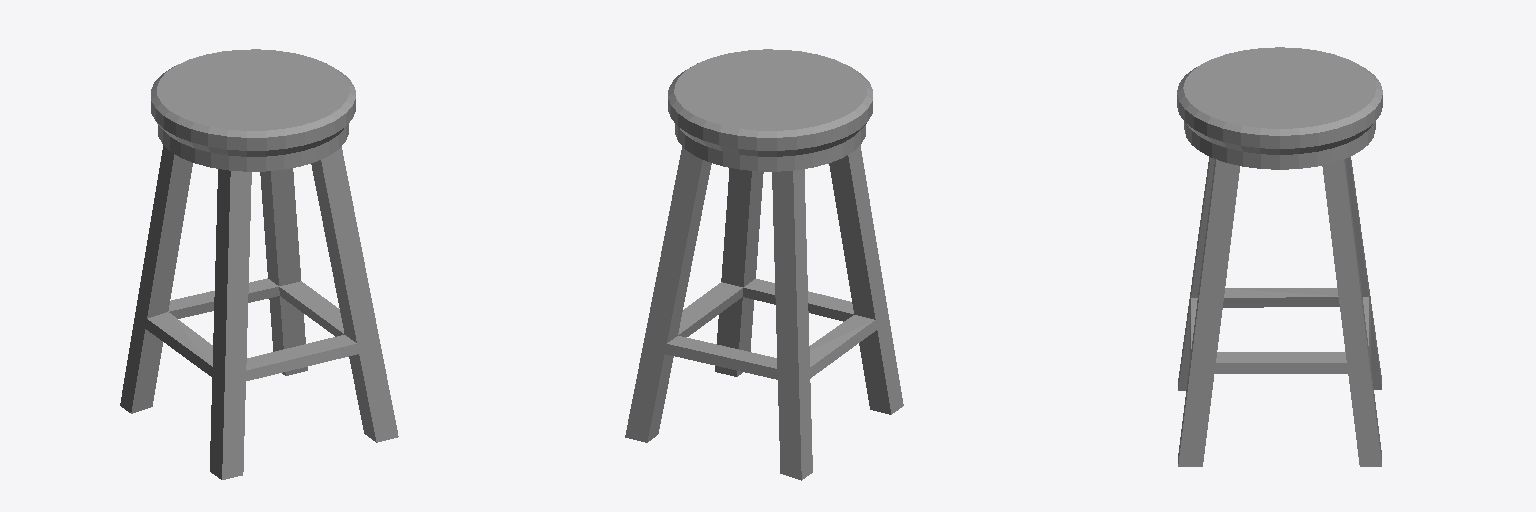
The model's file is stool.obj.
3 renders of one model, left to right at view 1: azimuth 30°, elevation 25°; view 2: azimuth 150°, elevation 25°; view 3: azimuth 270°, elevation 25°, orthographic.
Visible parts, largest first — view 1: Cube.001_Cube.002; view 2: Cube.001_Cube.002; view 3: Cube.001_Cube.002.
Part boxes in pixels (x1,y1,x2,y2): Cube.001_Cube.002: (120, 49, 398, 479); Cube.001_Cube.002: (625, 49, 903, 480); Cube.001_Cube.002: (1177, 47, 1382, 466).
Size of the model in its own units: 1.65 by 2.86 by 1.6.